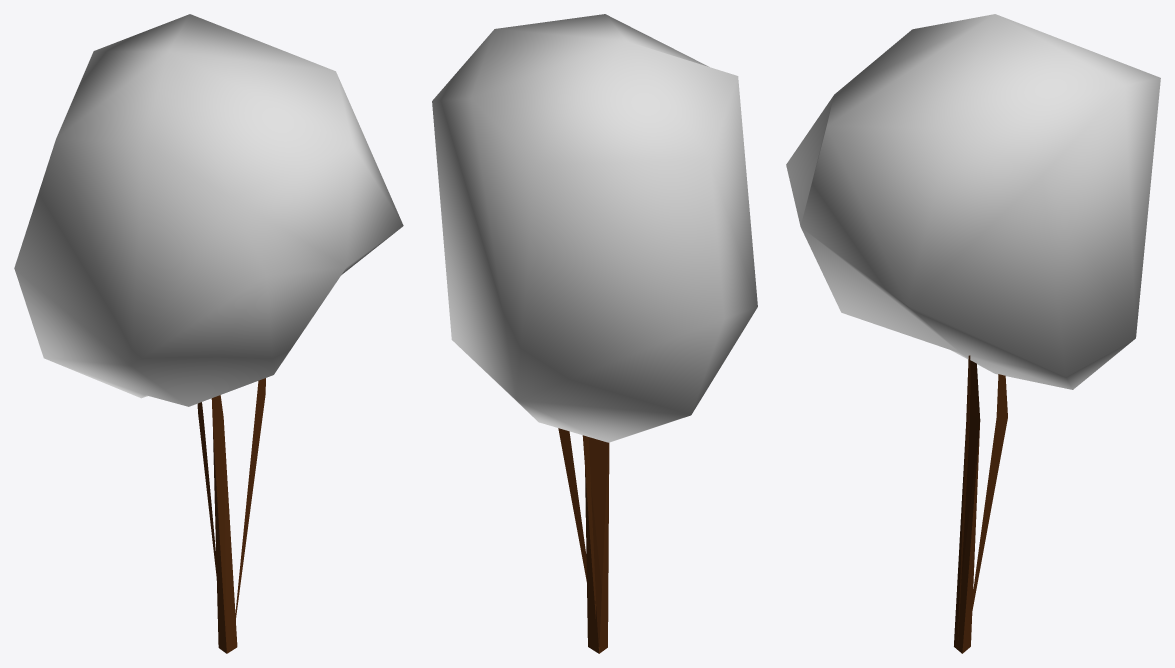
The model's file is chajra.fbx.
3 renders of one model, left to right at view 1: azimuth 30°, elevation 25°; view 2: azimuth 150°, elevation 25°; view 3: azimuth 270°, elevation 25°, orthographic. The views are drawn at different scales.
Visible parts, largest first — view 1: SCATTER5_placeholder_lowpoly_coniferous_03; view 2: SCATTER5_placeholder_lowpoly_coniferous_03; view 3: SCATTER5_placeholder_lowpoly_coniferous_03.
Boxes of the visible parts, x1,y1,x2,y2 form: SCATTER5_placeholder_lowpoly_coniferous_03: (14,14,403,653); SCATTER5_placeholder_lowpoly_coniferous_03: (432,14,757,653); SCATTER5_placeholder_lowpoly_coniferous_03: (786,14,1160,653).
Bounding box in the file's own units: 341 × 619 × 341.
